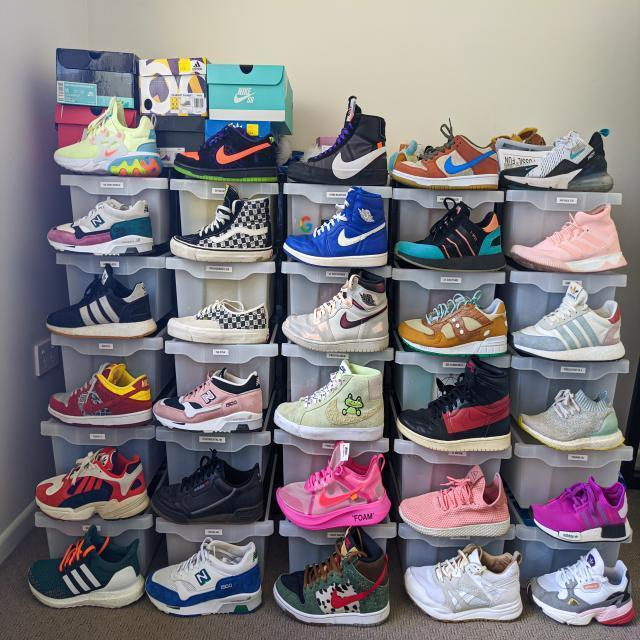shoes: (267, 519, 398, 632), (393, 356, 516, 456), (273, 439, 397, 537), (522, 539, 640, 640), (402, 536, 527, 631), (505, 193, 635, 281), (24, 522, 147, 615), (281, 90, 396, 188), (270, 354, 391, 447), (510, 275, 632, 367), (145, 536, 266, 627), (172, 108, 301, 193), (146, 445, 270, 533), (53, 99, 164, 197), (279, 267, 397, 359), (278, 182, 397, 273), (37, 258, 161, 345), (390, 190, 511, 277), (393, 461, 518, 543), (394, 284, 517, 367), (30, 444, 152, 526), (165, 182, 279, 269), (496, 117, 624, 194), (150, 360, 268, 440), (385, 118, 507, 193), (43, 356, 158, 434), (513, 382, 631, 455), (526, 472, 640, 546), (46, 196, 157, 268), (163, 292, 274, 352)
